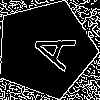A: (20, 24, 77, 72)
